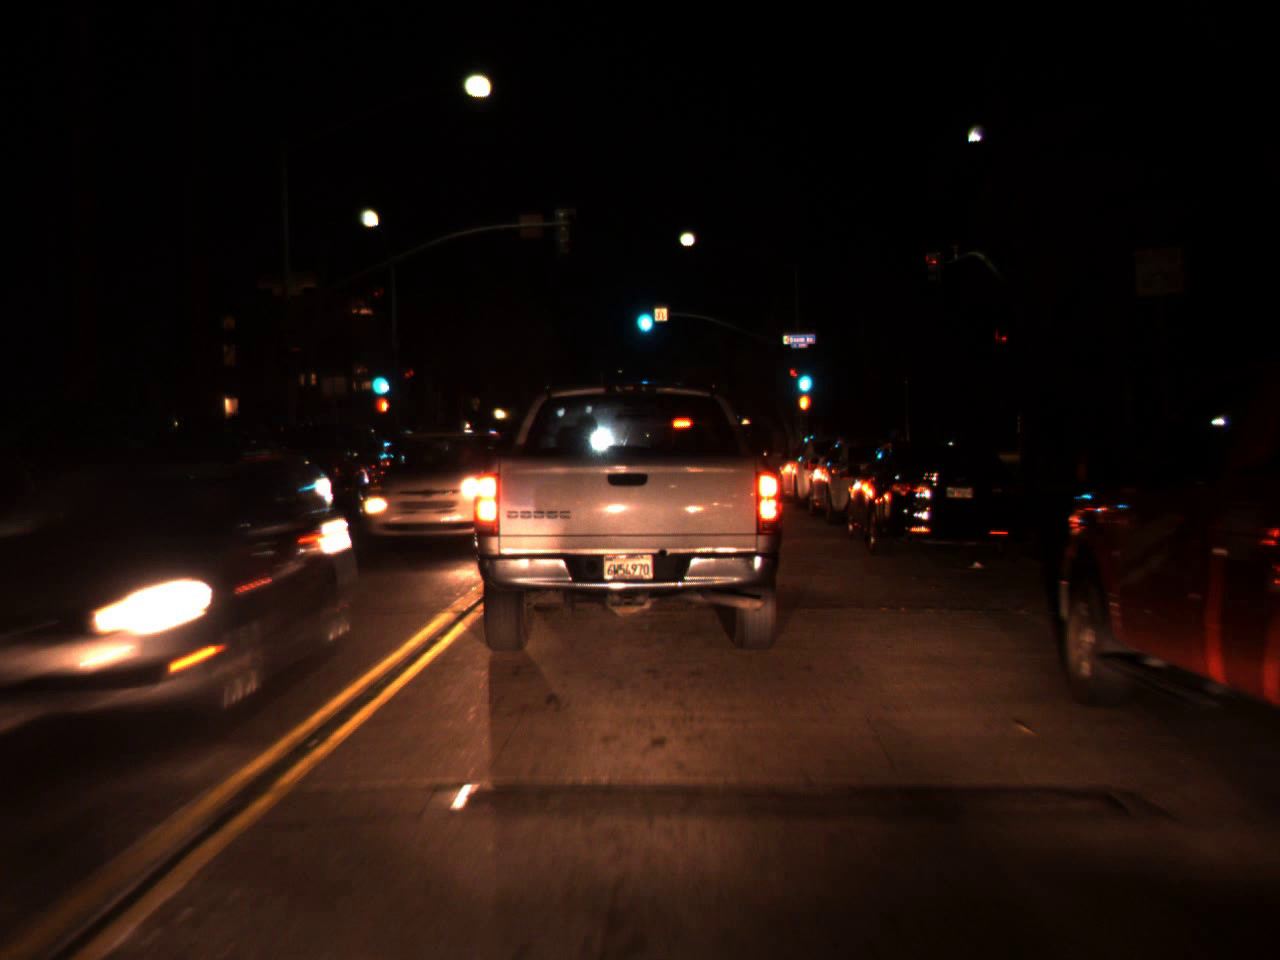go: (367, 354, 392, 402), (631, 292, 656, 337), (793, 353, 814, 398)
